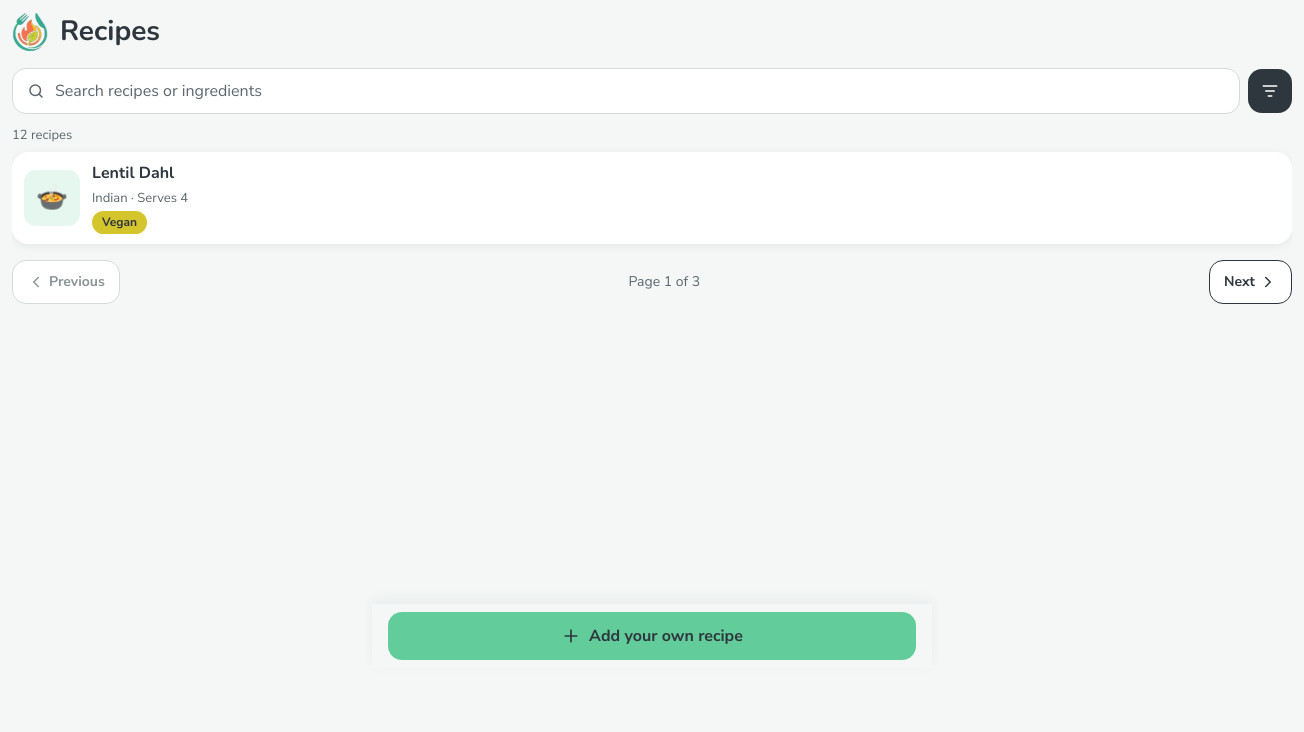
Test case: RecipesPage pages › moves between pages with Next and Previous, keeping the page in the URL
Expected: the text "Page 1 of 3" is shown, [629,272,700,291]
Expected: the button with aria-label "Previous page" is disabled, [12,260,120,304]
Step 1. Click the button with aria-label "Next page" → (1250, 282), box [1209,260,1292,304]
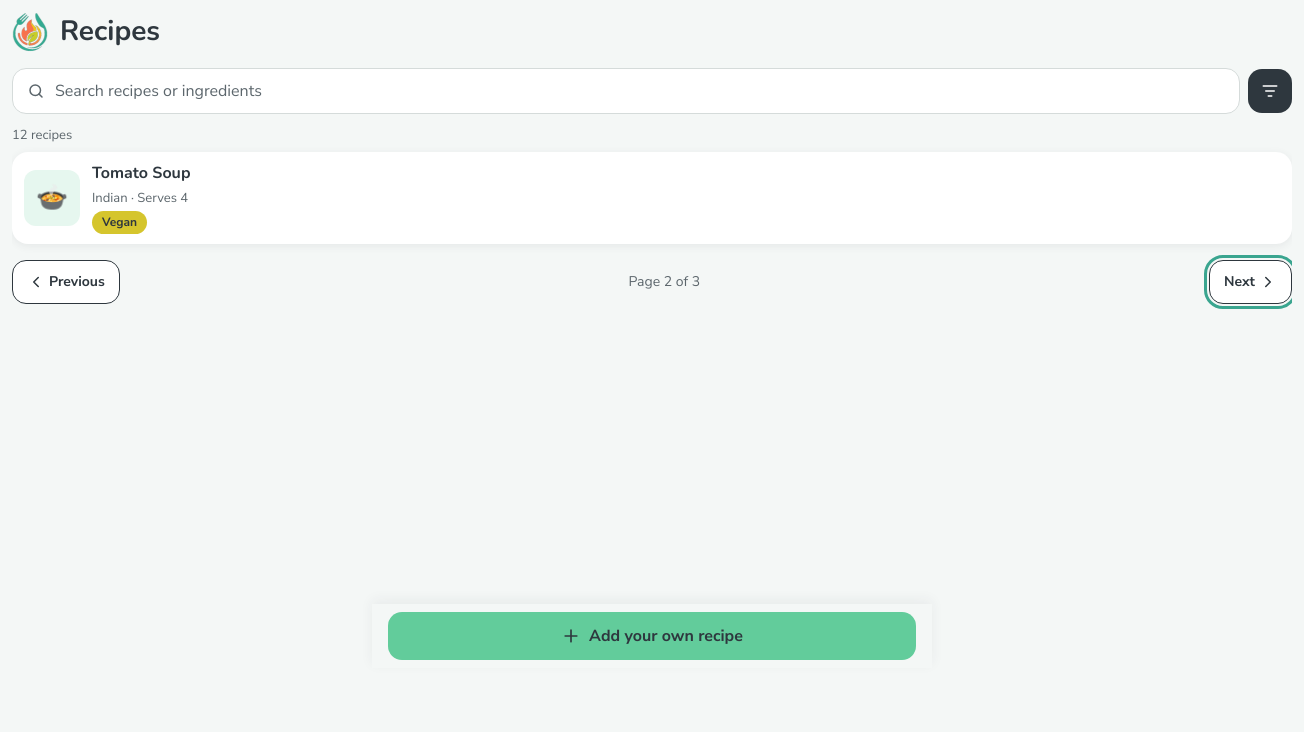
Now the text "Page 2 of 3" is shown, box [629,272,700,291]
Now the text "Tomato Soup" is shown, box [92,162,190,185]
Step 2. Click the button with aria-label "Previous page" → (66, 282), box [12,260,120,304]
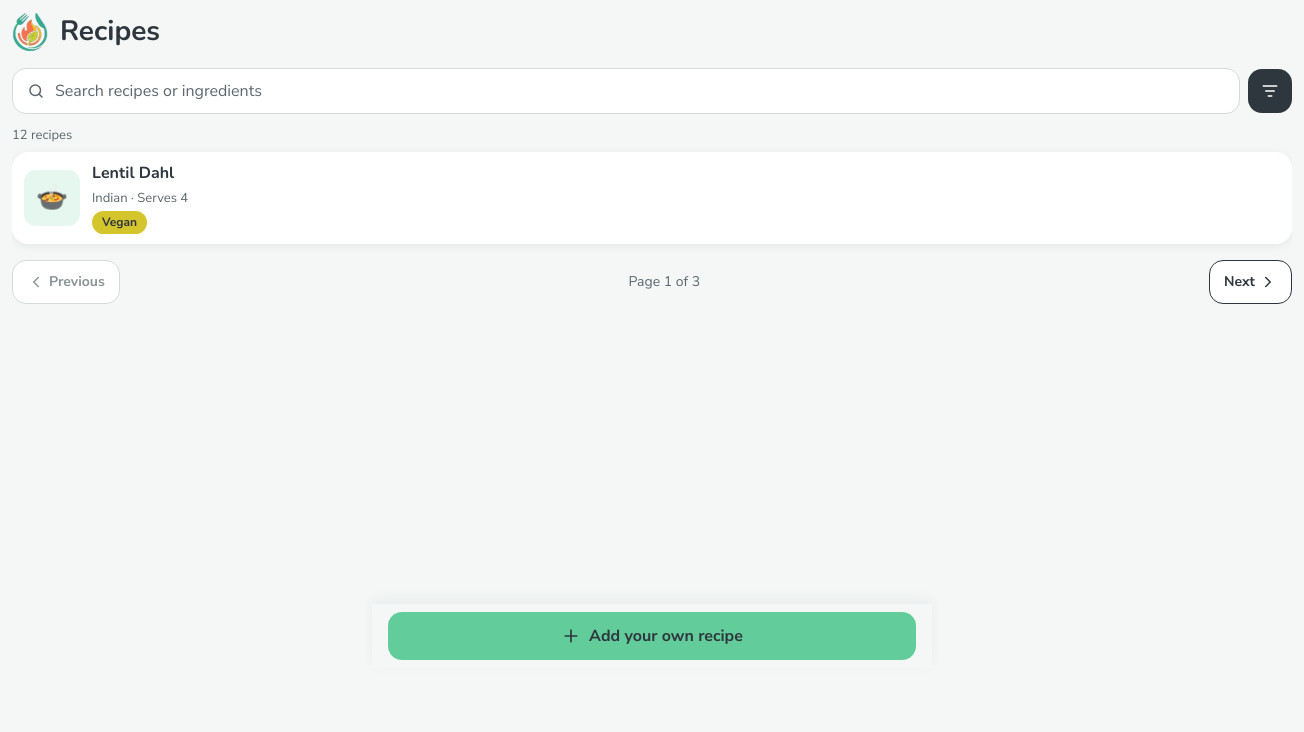
Now the text "Page 1 of 3" is shown, box [629,272,700,291]
